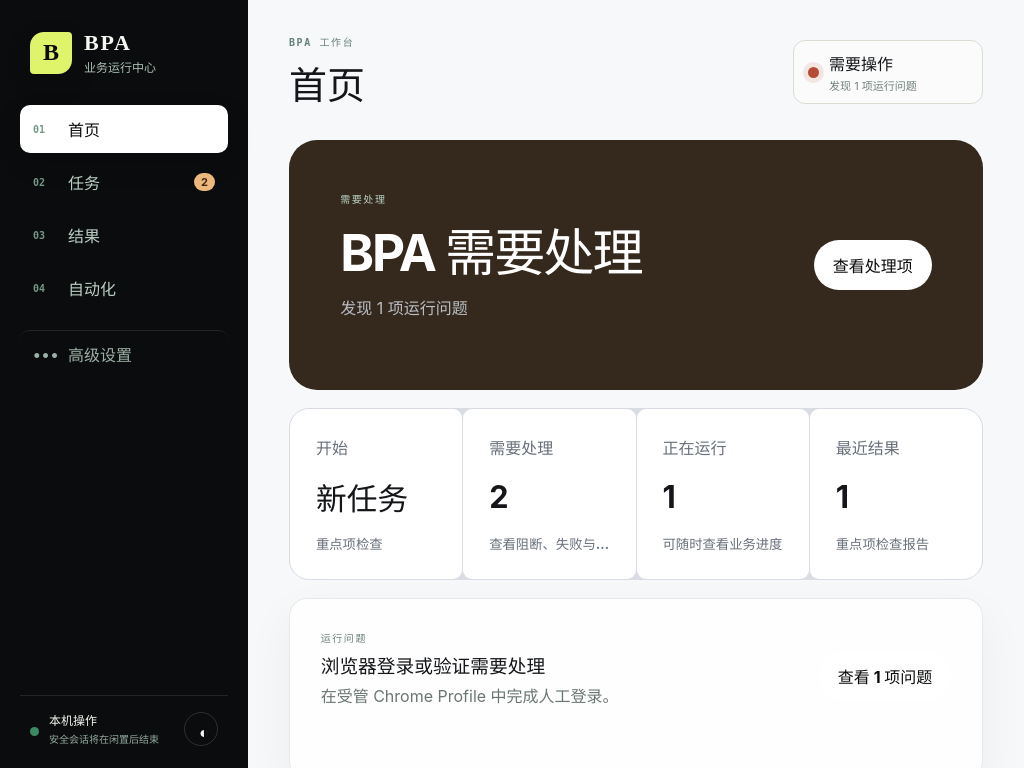
it: Operator Console › starts login recovery from an exact unauthenticated page binding
Expected: the heading "BPA 需要处理" is shown, [340,212,642,286]
What coordinates should you click on to do the following:
click the button "查看 1 项问题"
I would click on:
 (885, 676)
Its box is [819,651,951,701].
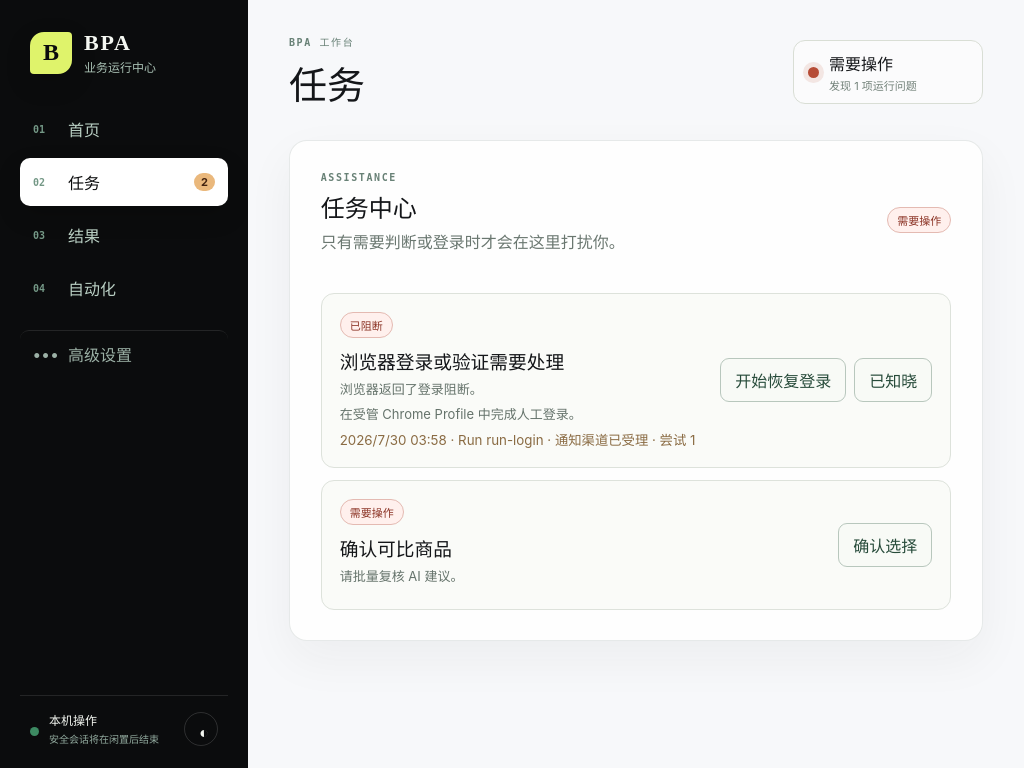
What coordinates should you click on to do the following:
click the button "开始恢复登录"
I would click on:
 (783, 380)
Its box is [720,358,846,402].
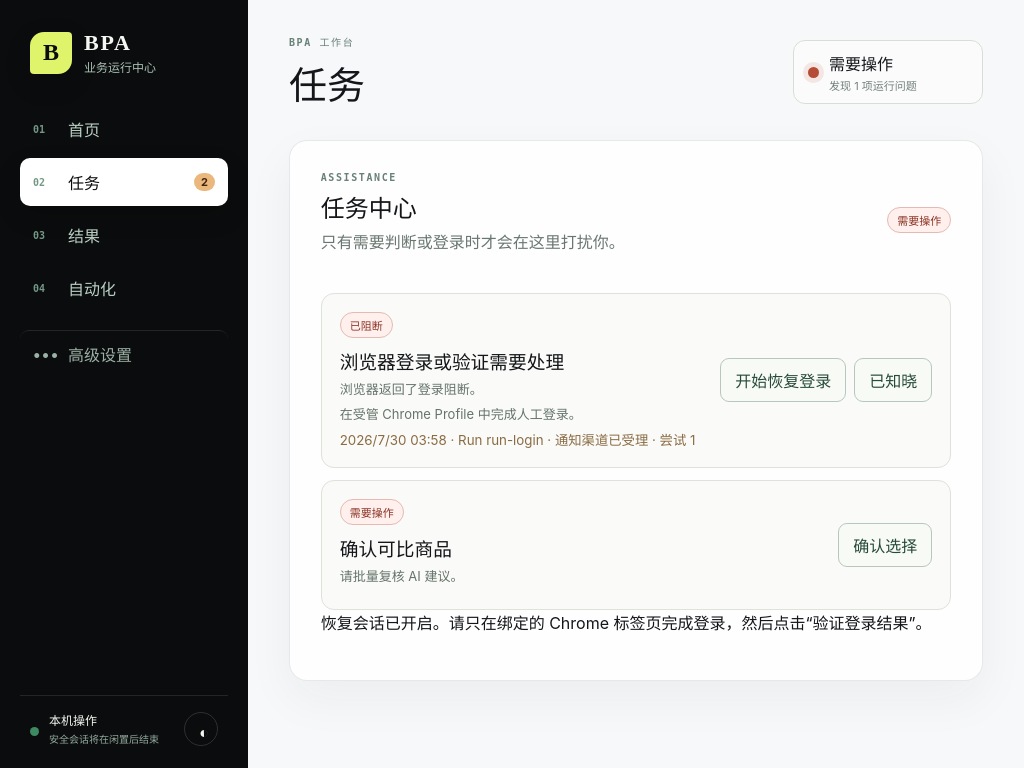
Expected: the text "恢复会话已开启。请只在绑定的 Chrome 标签页完成登录，然后点击“验证登录结果”。" is shown, [321,610,951,634]
